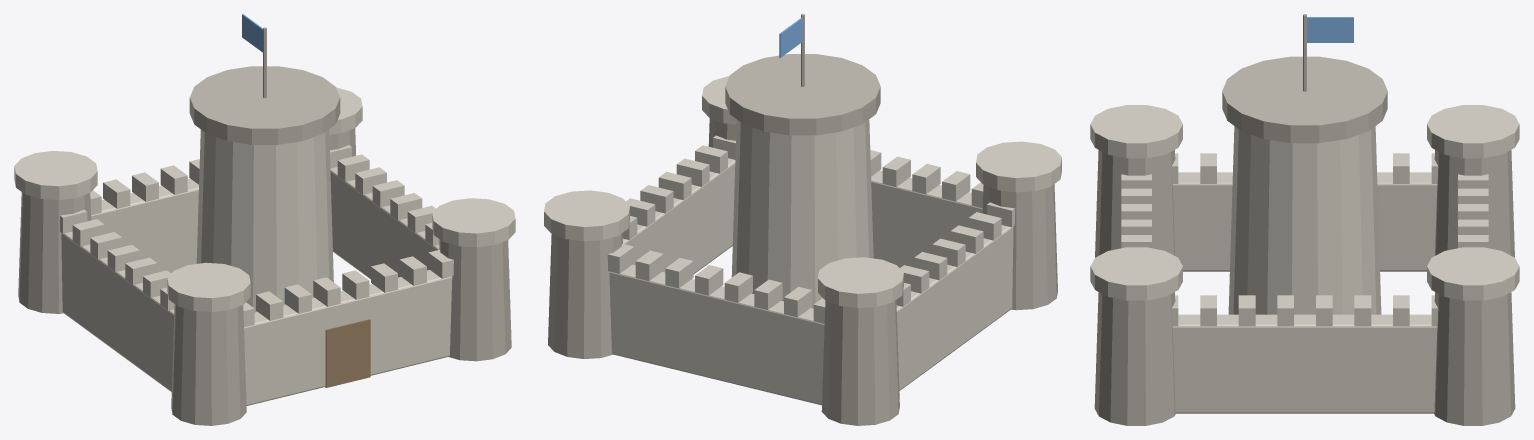
The model's file is fort.glb.
3 renders of one model, left to right at view 1: azimuth 30°, elevation 25°; view 2: azimuth 150°, elevation 25°; view 3: azimuth 270°, elevation 25°, orthographic. The views are drawn at different scales.
Visible parts, largest first — view 1: fort; view 2: fort; view 3: fort.
Boxes of the visible parts, x1,y1,x2,y2 form: fort: (14, 14, 515, 425); fort: (544, 14, 1061, 425); fort: (1090, 14, 1519, 425).
Size of the model in its own units: 30.43 by 25.4 by 30.6.
